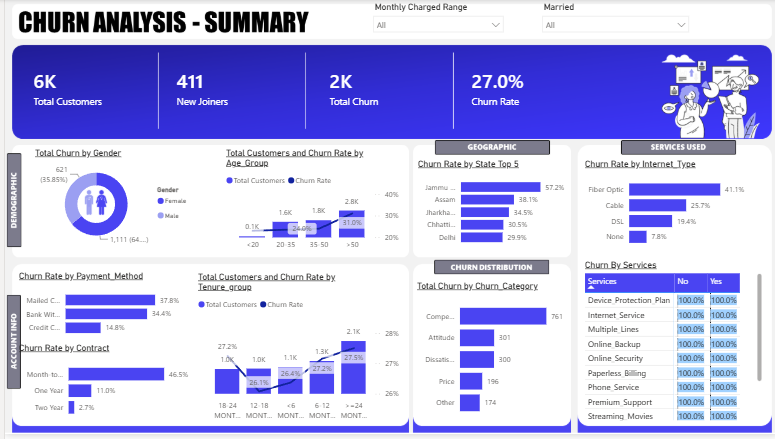

The page's visual inventory and layout, read from the dashboard file:
{"tool":"powerbi","page":{"name":"Summary","canvas":[1280,720],"ordinal":0},"visuals":[{"type":"cardVisual","fields":{"Data":["Tbl_Measures.New Joiners"]},"box":[254.2,82.9,229,126.2],"z":0},{"type":"cardVisual","fields":{"Data":["Tbl_Measures.Total Churn"]},"box":[508.4,82.9,223.5,126.2],"z":1000},{"type":"cardVisual","fields":{"Data":["Tbl_Measures.Churn Rate"]},"box":[742.8,82.9,210.9,126.2],"z":2000},{"type":"cardVisual","fields":{"Data":["Tbl_Measures.Total Customers"]},"box":[18,82.9,219.9,126.2],"z":3000},{"type":"donutChart","fields":{"Category":["prod_Churn.Gender"],"Y":["Tbl_Measures.Total Churn"]},"box":[43.9,247.2,270.3,168.7],"z":4000},{"type":"lineStackedColumnComboChart","fields":{"Category":["mapping_age_grp.Age_Group"],"Y":["Tbl_Measures.Total Customers"],"Y2":["Tbl_Measures.Churn Rate"]},"box":[360.4,247.2,295.7,177.9],"z":5000},{"type":"clusteredBarChart","fields":{"Category":["prod_Churn.Payment_Method"],"Y":["Tbl_Measures.Churn Rate"]},"box":[18.5,450.5,274.9,117.8],"z":6000},{"type":"clusteredBarChart","fields":{"Category":["prod_Churn.Contract"],"Y":["Tbl_Measures.Churn Rate"]},"box":[18.5,568.4,295.7,134],"z":7000},{"type":"lineStackedColumnComboChart","fields":{"Category":["Mapping_tenuregrp.Tenure_group"],"Y":["Tbl_Measures.Total Customers"],"Y2":["Tbl_Measures.Churn Rate"]},"box":[313.7,450.7,342.5,252.4],"z":8000},{"type":"clusteredBarChart","title":"Churn Rate by State Top 5","fields":{"Category":["prod_Churn.State"],"Y":["Tbl_Measures.Churn Rate"]},"box":[677.9,265,252.4,151.4],"z":9000},{"type":"clusteredBarChart","fields":{"Category":["prod_Churn.Churn_Category"],"Y":["Tbl_Measures.Total Churn"]},"box":[677,466.7,251.8,235.7],"z":10000},{"type":"clusteredBarChart","fields":{"Category":["prod_Churn.Internet_Type"],"Y":["Tbl_Measures.Churn Rate"]},"box":[953.7,265,302.9,155],"z":11000},{"type":"pivotTable","title":"Churn By Services","fields":{"Rows":["prod_services.Services"],"Columns":["prod_services.Status"],"Values":["Sum(prod_Churn.Churn_Status)"]},"box":[954.2,432.1,302.7,270.3],"z":12000},{"type":"slicer","fields":{"Values":["prod_Churn.Monthly Charged Status"]},"box":[598.4,0,235.7,62.4],"z":13000},{"type":"slicer","fields":{"Values":["prod_services.Married"]},"box":[878,0,263.4,62.4],"z":14000},{"type":"image","box":[124.8,305,53.1,62.4],"z":14001}]}

Visuals, with their boxes in screenshot pixels (x1, y1, x2, y2), scaled from the page's 1280x720 canvas onto the 775x439 screenshot:
cardVisual - Tbl_Measures.New Joiners: 154:51:293:127
cardVisual - Tbl_Measures.Total Churn: 308:51:443:127
cardVisual - Tbl_Measures.Churn Rate: 450:51:577:127
cardVisual - Tbl_Measures.Total Customers: 11:51:144:127
donutChart - prod_Churn.Gender x Tbl_Measures.Total Churn: 27:151:190:254
lineStackedColumnComboChart - mapping_age_grp.Age_Group x Tbl_Measures.Total Customers: 218:151:397:259
clusteredBarChart - prod_Churn.Payment_Method x Tbl_Measures.Churn Rate: 11:275:178:347
clusteredBarChart - prod_Churn.Contract x Tbl_Measures.Churn Rate: 11:347:190:428
lineStackedColumnComboChart - Mapping_tenuregrp.Tenure_group x Tbl_Measures.Total Customers: 190:275:397:429
"Churn Rate by State Top 5" clusteredBarChart: 410:162:563:254
clusteredBarChart - prod_Churn.Churn_Category x Tbl_Measures.Total Churn: 410:285:562:428
clusteredBarChart - prod_Churn.Internet_Type x Tbl_Measures.Churn Rate: 577:162:761:256
"Churn By Services" pivotTable: 578:263:761:428
slicer - prod_Churn.Monthly Charged Status: 362:0:505:38
slicer - prod_services.Married: 532:0:691:38
image: 76:186:108:224
